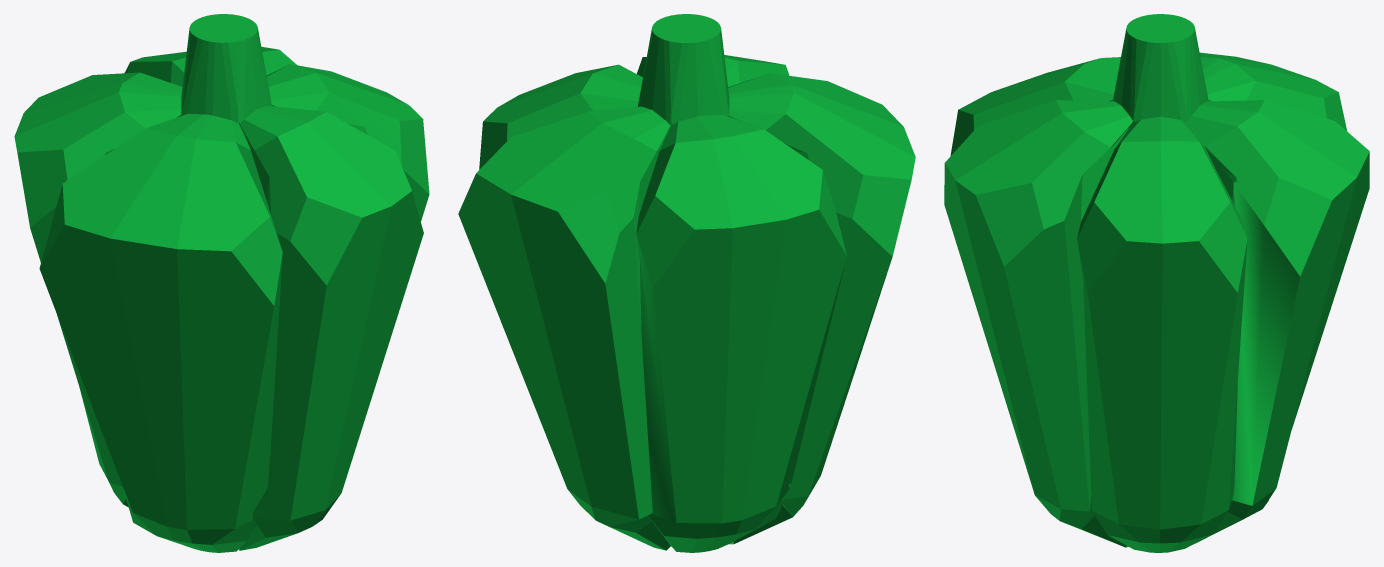
File: GreenPepper.fbx
3 views of the same model, side by side, from view 1: azimuth 30°, elevation 25°; view 2: azimuth 150°, elevation 25°; view 3: azimuth 270°, elevation 25° (orthographic).
Parts seen in each view (by area): view 1: GreenPepper; view 2: GreenPepper; view 3: GreenPepper.
Part boxes in pixels (<box>): GreenPepper: <box>14,14,429,552</box>; GreenPepper: <box>458,14,915,552</box>; GreenPepper: <box>944,14,1369,552</box>.
Bounding box in the file's own units: 40.71 × 51.38 × 39.24.
